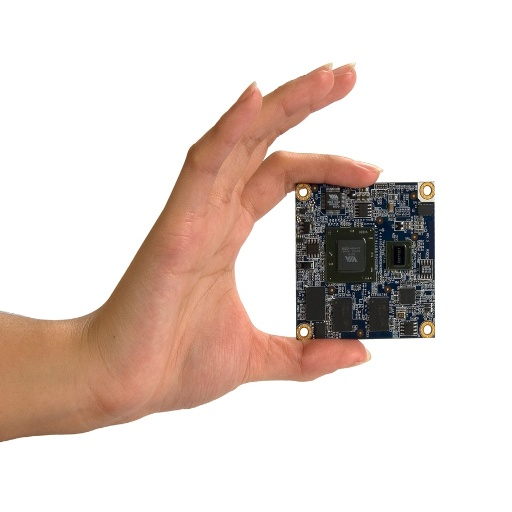hand: (17, 78, 376, 459)
